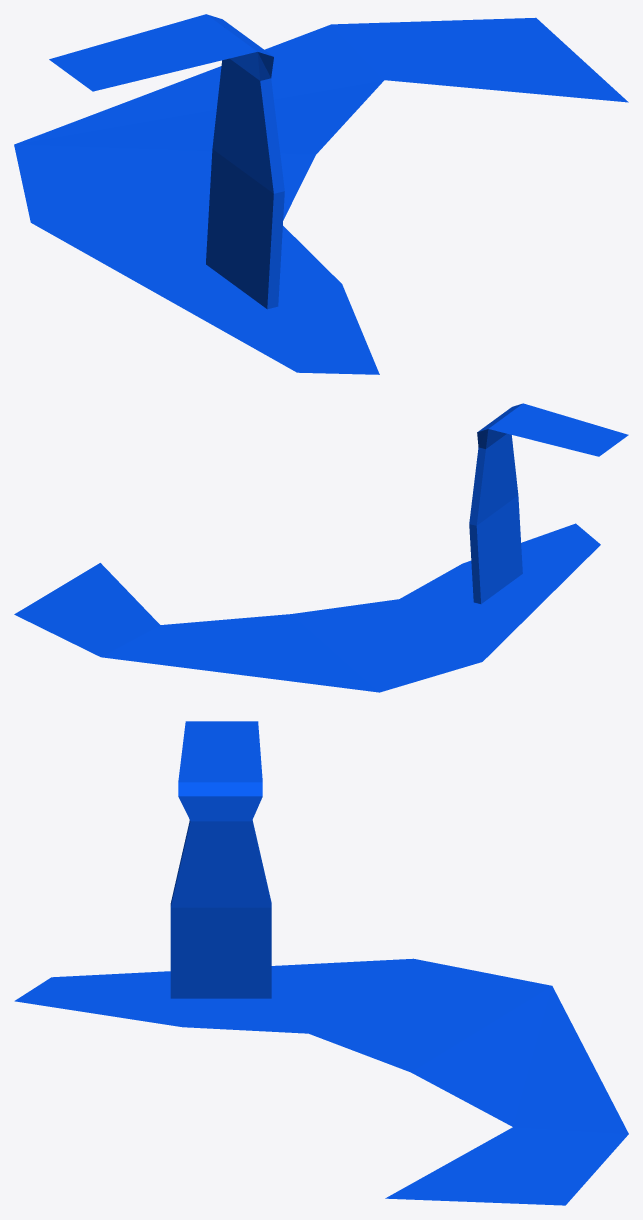
The model's file is canyon_water.obj.
The picture shows the model from 3 angles, top to bottom: view 1: azimuth 30°, elevation 25°; view 2: azimuth 150°, elevation 25°; view 3: azimuth 270°, elevation 25°; orthographic projection. The views are drawn at different scales.
Visible parts, largest first — view 1: canyon.water_Plane.003; view 2: canyon.water_Plane.003; view 3: canyon.water_Plane.003.
Part boxes in pixels (bbox=[...]): canyon.water_Plane.003: bbox=[14, 14, 628, 374]; canyon.water_Plane.003: bbox=[14, 403, 628, 692]; canyon.water_Plane.003: bbox=[14, 721, 628, 1205].
Bounding box in the file's own units: 266 × 102 × 256.
1 material, 1 textured.
